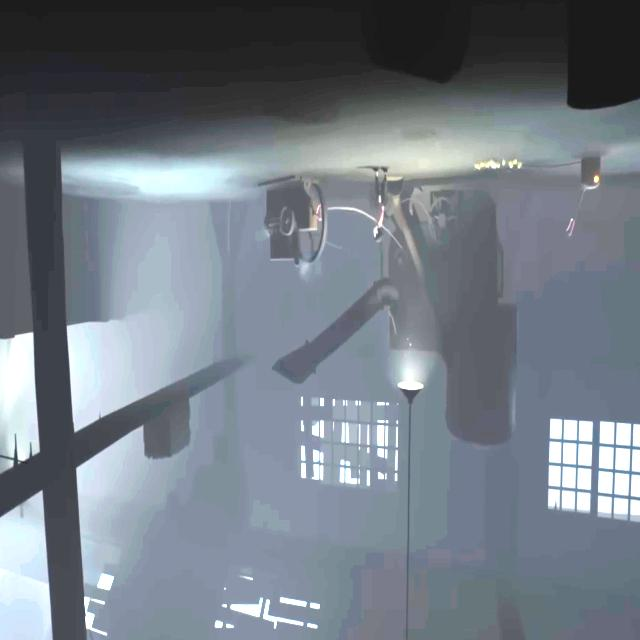boy: (373, 168, 387, 243)
